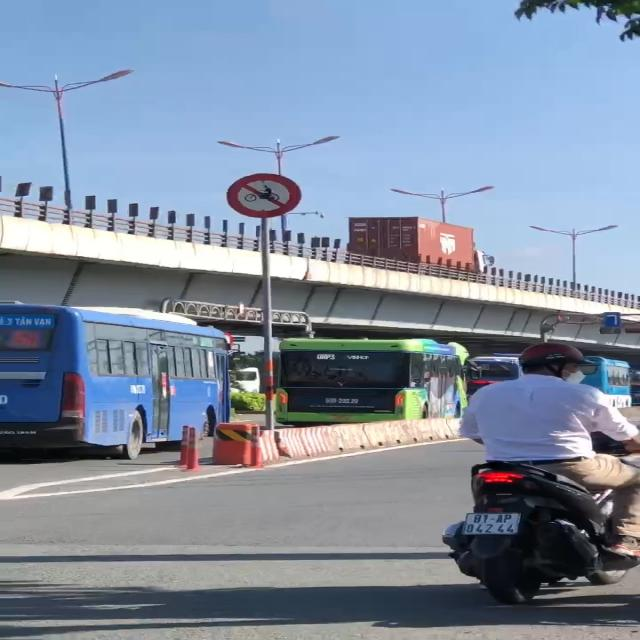Bien bao cam xe may: (223, 169, 312, 224)
